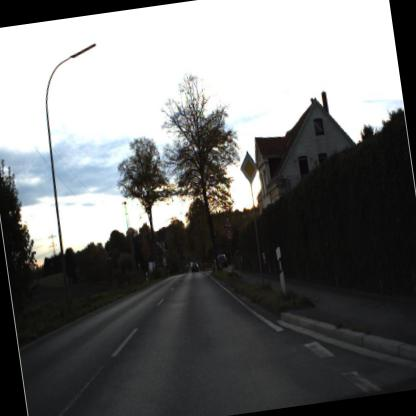other: (236, 149, 264, 193)
prohibitory: (222, 228, 237, 244)
